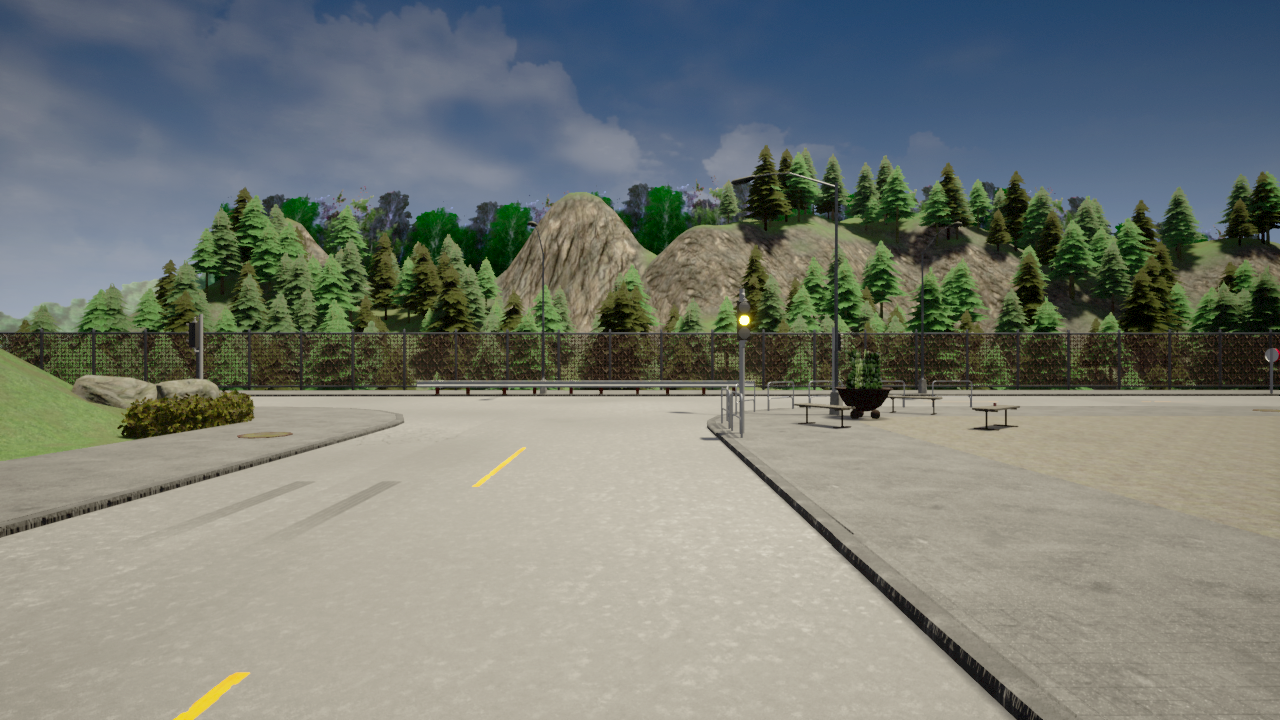yellow: (734, 299, 752, 341)
